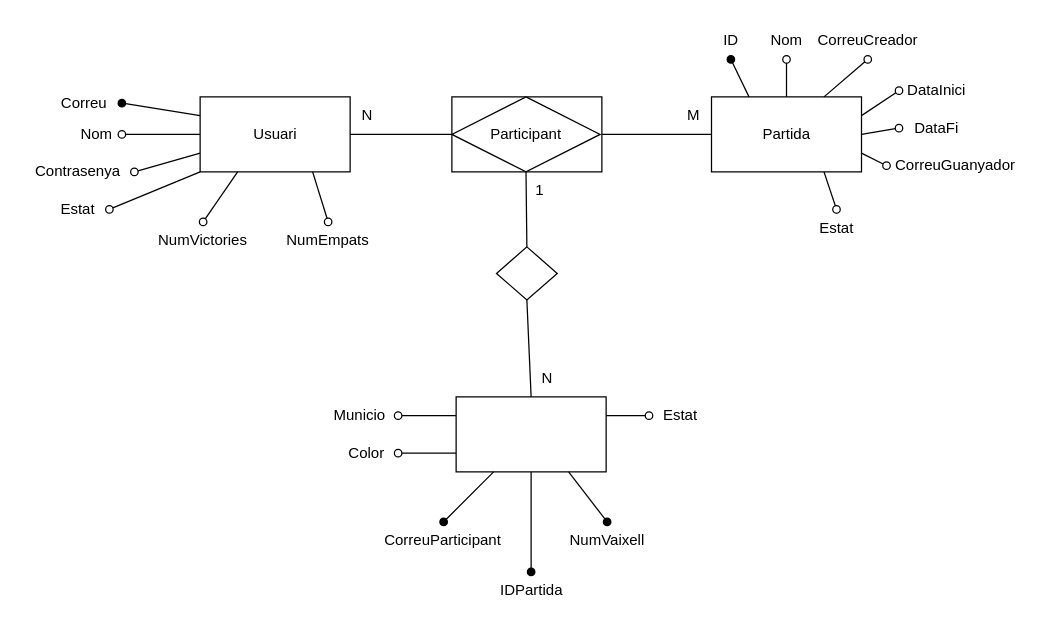
Image size: 1045x630. Some labels were removed from this diagram. The box of each missing label's shape, as (x1, y1, x2, y2) in pixels:
Té: (495, 246, 557, 300)
Vaixell: (455, 396, 606, 472)
